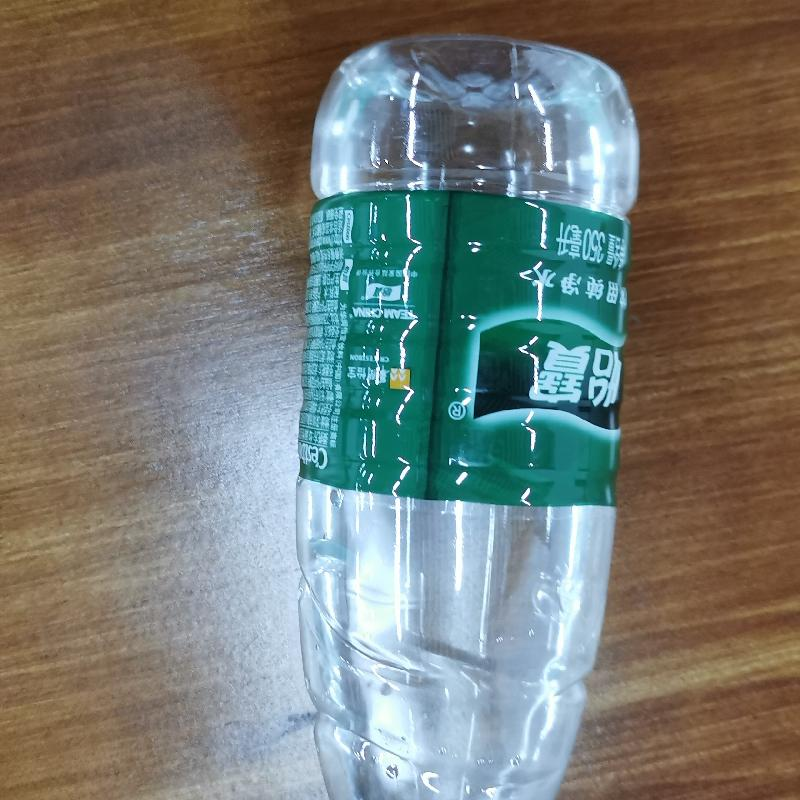bottles: (284, 36, 640, 799)
